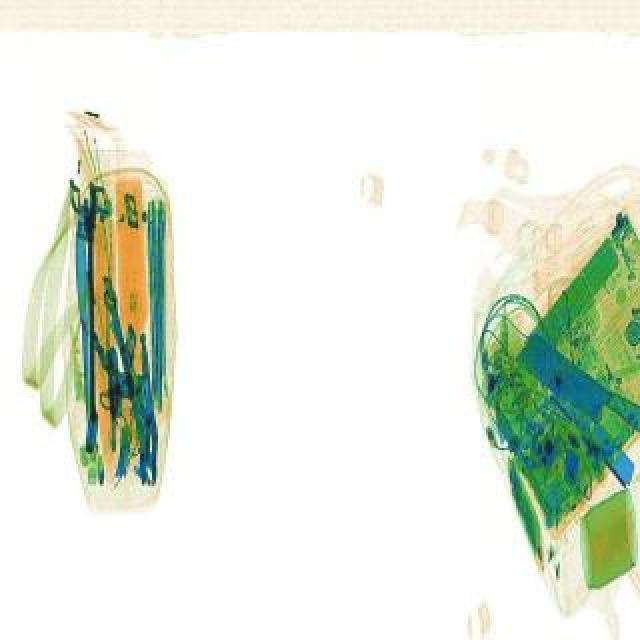gun: (108, 370, 136, 454)
knife: (512, 336, 640, 442)
scissors: (98, 288, 162, 490)
